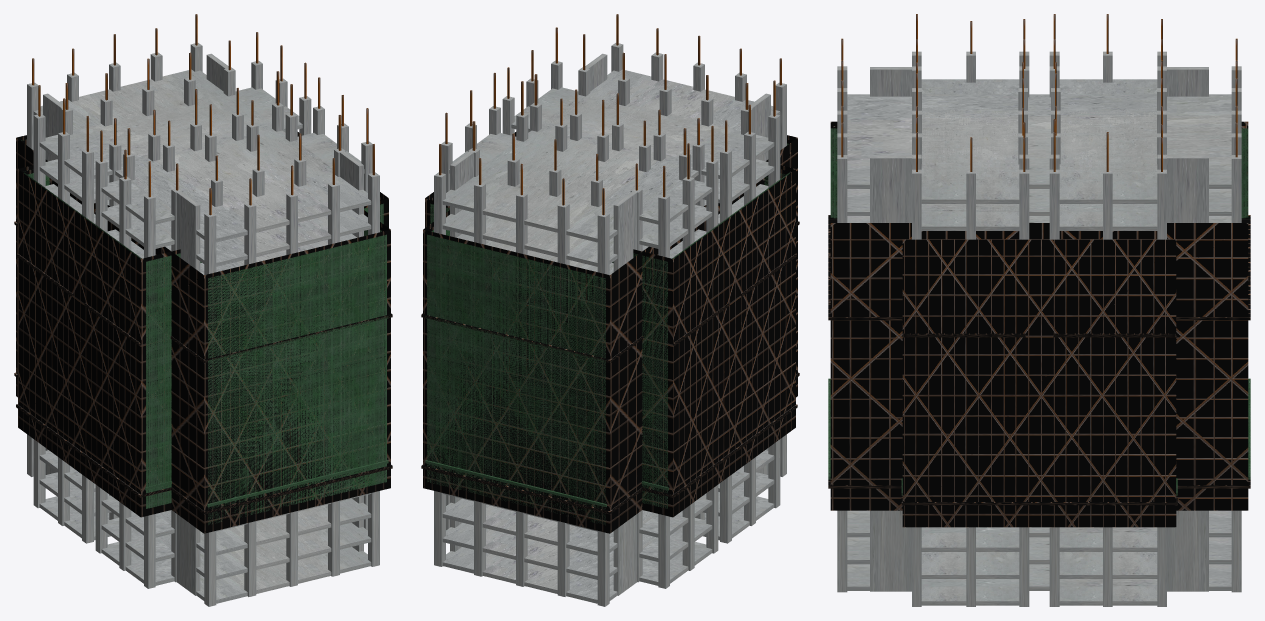
3 views of the same model, side by side, from view 1: azimuth 30°, elevation 25°; view 2: azimuth 150°, elevation 25°; view 3: azimuth 270°, elevation 25° (orthographic). The views are drawn at different scales.
Parts seen in each view (by area): view 1: 建筑工地1主结构, 建筑工地1防尘帄, 建筑工地1防尘布, 建筑工地1钢筋; view 2: 建筑工地1防尘帄, 建筑工地1主结构, 建筑工地1防尘布, 建筑工地1钢筋; view 3: 建筑工地1防尘帄, 建筑工地1主结构, 建筑工地1钢筋, 建筑工地1防尘布.
Boxes of the visible parts, left/top/right/bottom form: 建筑工地1主结构: left=27, top=43, right=379, bottom=606; 建筑工地1防尘帄: left=14, top=132, right=392, bottom=533; 建筑工地1防尘布: left=21, top=139, right=388, bottom=524; 建筑工地1钢筋: left=32, top=14, right=374, bottom=215; 建筑工地1防尘帄: left=421, top=132, right=799, bottom=533; 建筑工地1主结构: left=434, top=43, right=786, bottom=606; 建筑工地1防尘布: left=425, top=143, right=789, bottom=525; 建筑工地1钢筋: left=439, top=14, right=781, bottom=215; 建筑工地1防尘帄: left=828, top=121, right=1250, bottom=527; 建筑工地1主结构: left=837, top=51, right=1241, bottom=606; 建筑工地1钢筋: left=841, top=14, right=1237, bottom=171; 建筑工地1防尘布: left=828, top=128, right=1250, bottom=495.
Bounding box in the file's own units: 382 × 618 × 501.
4 materials, 4 textured.
